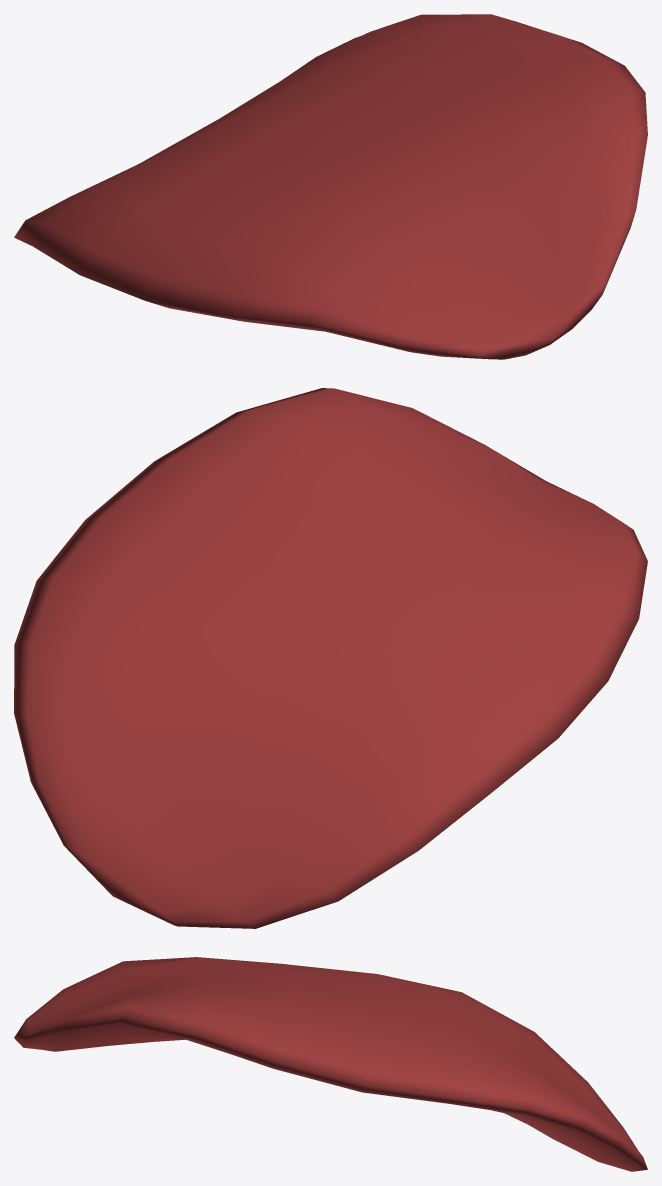
File: subcutaneous-acromial-bursa-r.glb
3 views of the same model, one above another, from view 1: azimuth 30°, elevation 25°; view 2: azimuth 150°, elevation 25°; view 3: azimuth 270°, elevation 25° (orthographic). The views are drawn at different scales.
Parts seen in each view (by area): view 1: Subcutaneous acromial bursa.r; view 2: Subcutaneous acromial bursa.r; view 3: Subcutaneous acromial bursa.r.
Boxes of the visible parts, x1,y1,x2,y2 form: Subcutaneous acromial bursa.r: [14, 14, 647, 359]; Subcutaneous acromial bursa.r: [14, 388, 647, 928]; Subcutaneous acromial bursa.r: [14, 957, 647, 1171].
Size of the model in its own units: 0.0314 by 0.0172 by 0.0448.
